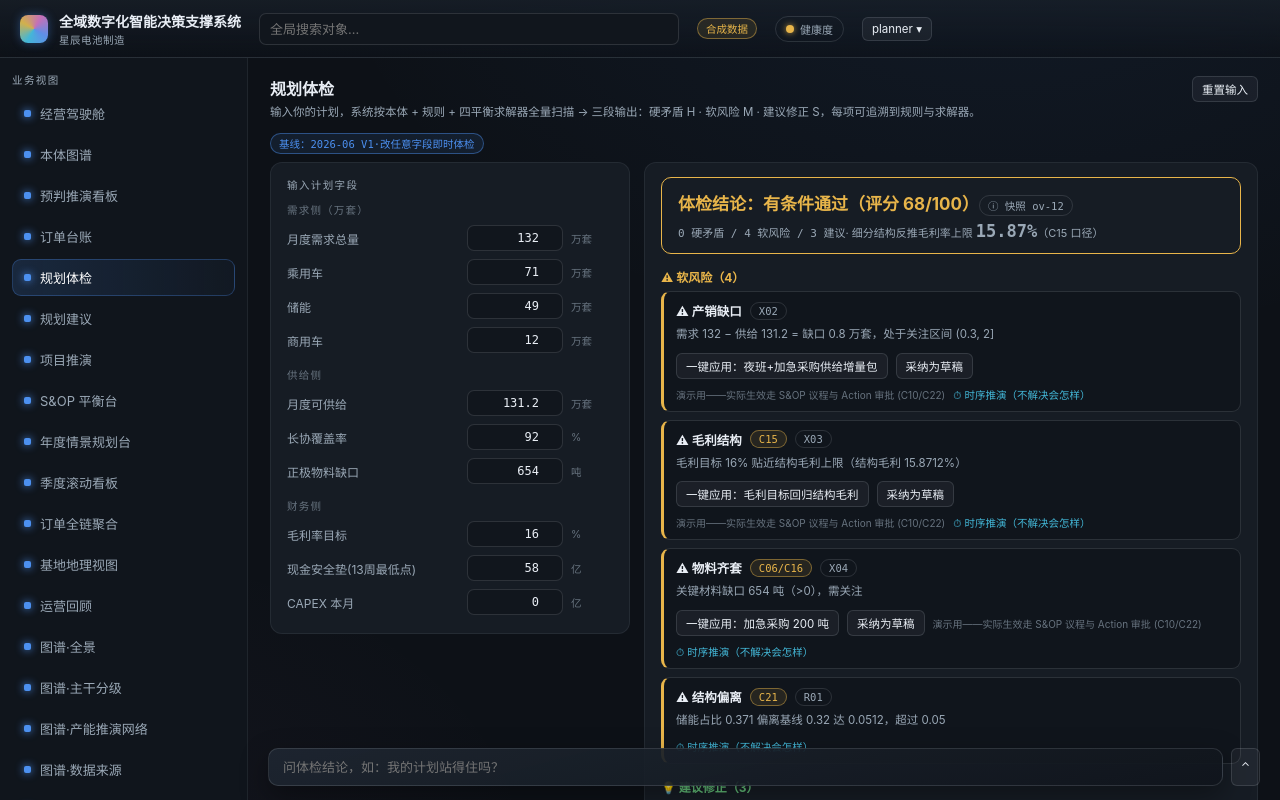
Test: F20 · 改参即重算：debounce 300ms + 竞态最后发出者胜 › 慢请求（dem=999 哨兵延迟 400ms）被后发请求取代：仅 dem=140 的结果上屏
The image size is (1280, 800).
Expected: the element with test id "audit-verdict" is shown, [661,177,1241,254]
Expected: the text with test id "audit-counts" reads "0 硬矛盾 / 4 软风险 / 3 建议", [678,227,846,240]
Replace the text in the number field with test id "audit-input-dem" with "999" at (515, 238), box [467,225,563,251]
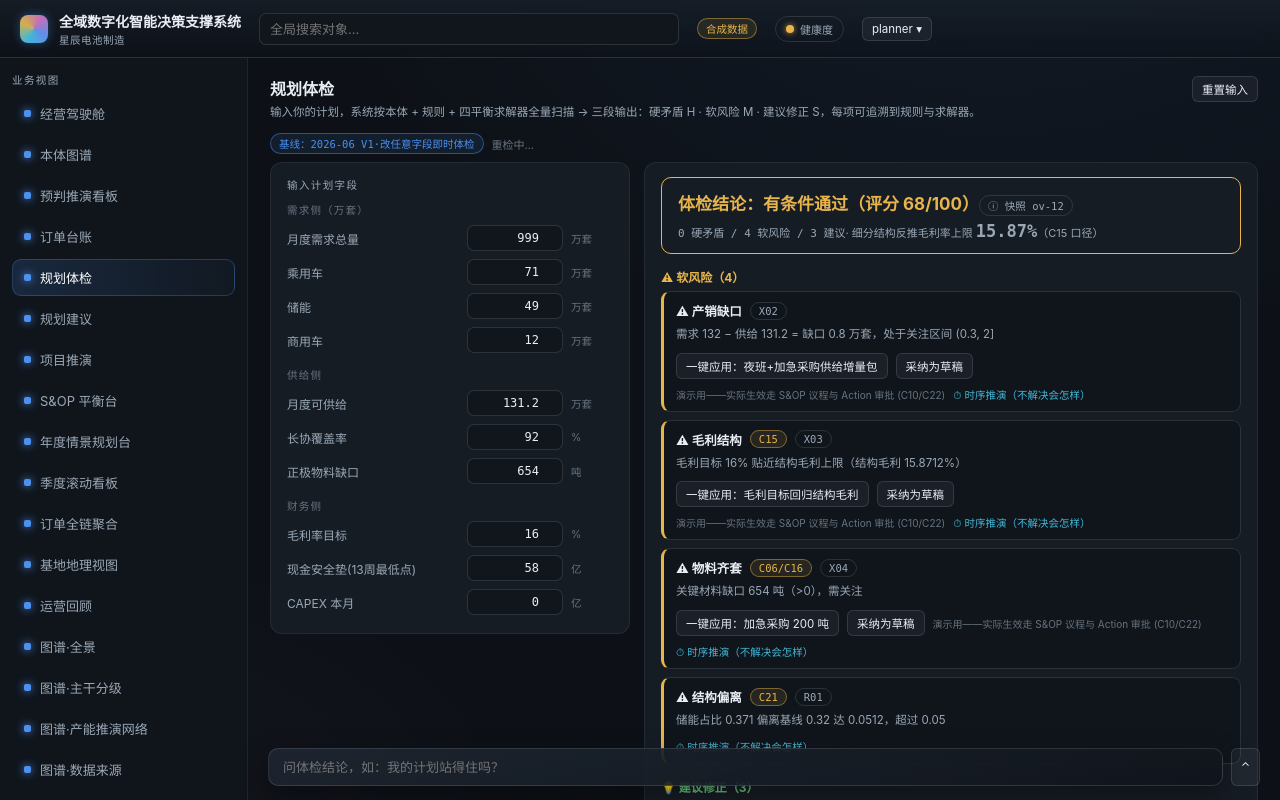
Replace the text in the number field with test id "audit-input-dem" with "140" at (515, 238), box [467,225,563,251]
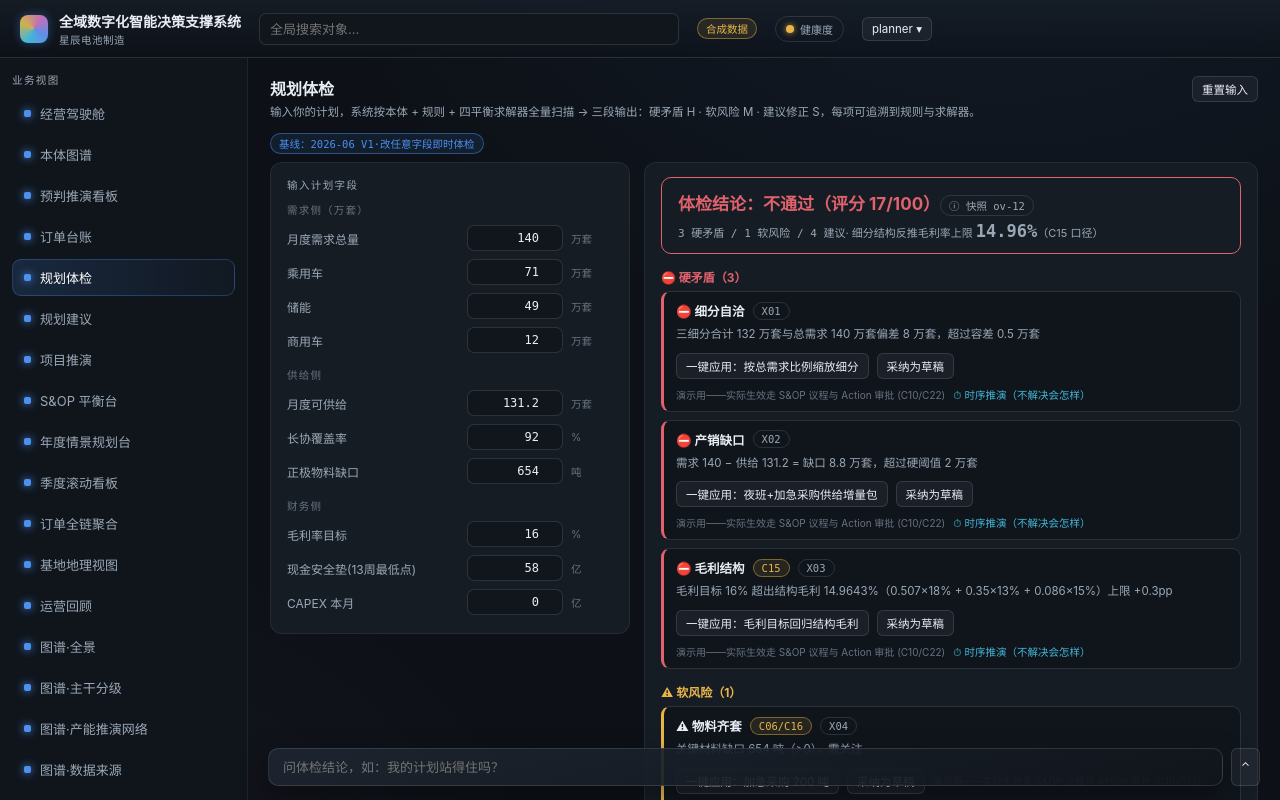
Expected: the element with test id "audit-item-hard-X01" shows "细分自洽", [695,304,745,319]
Expected: the element with test id "audit-item-hard-X02" shows "缺口 8.8 万套", [676,456,978,470]
